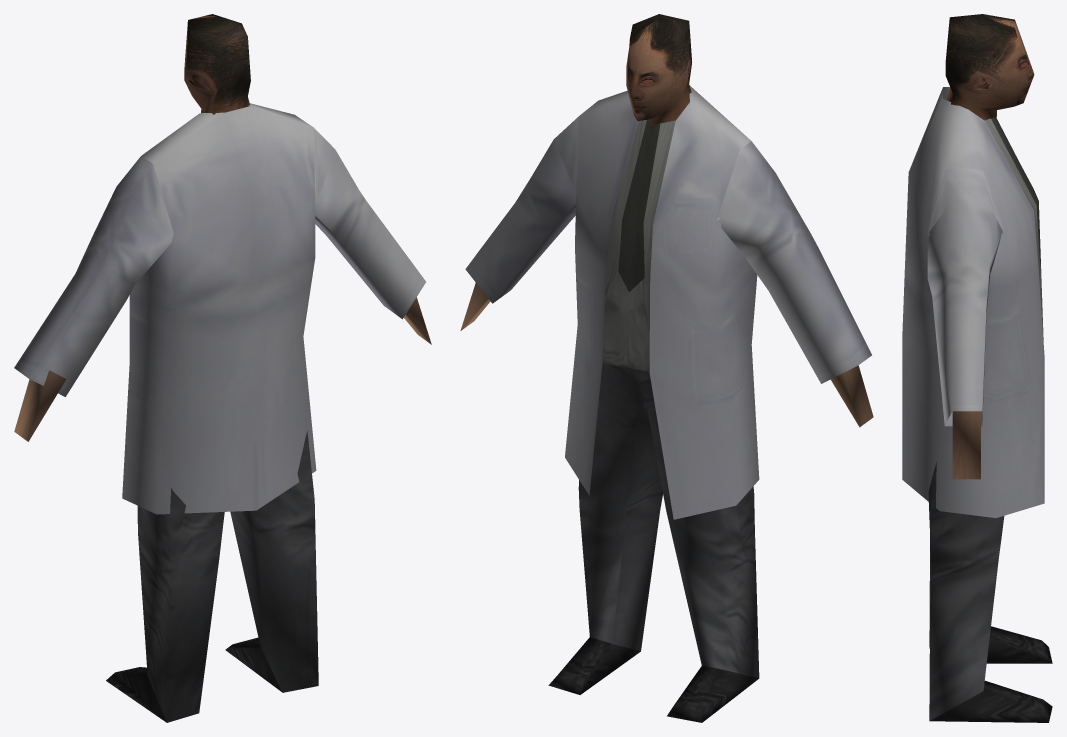
The model's file is s_m_m_doctor_01.glb.
3 views of the same model, side by side, from view 1: azimuth 30°, elevation 25°; view 2: azimuth 150°, elevation 25°; view 3: azimuth 270°, elevation 25° (orthographic).
Visible parts, largest first — view 1: SKEL_ROOT.002; view 2: SKEL_ROOT.002; view 3: SKEL_ROOT.002.
Part boxes in pixels (<box>): SKEL_ROOT.002: <box>14,14,431,722</box>; SKEL_ROOT.002: <box>460,14,873,722</box>; SKEL_ROOT.002: <box>902,14,1052,722</box>.
Size of the model in its own units: 1.16 by 1.83 by 0.3716.
Materials: 4 (4 with a texture image).
